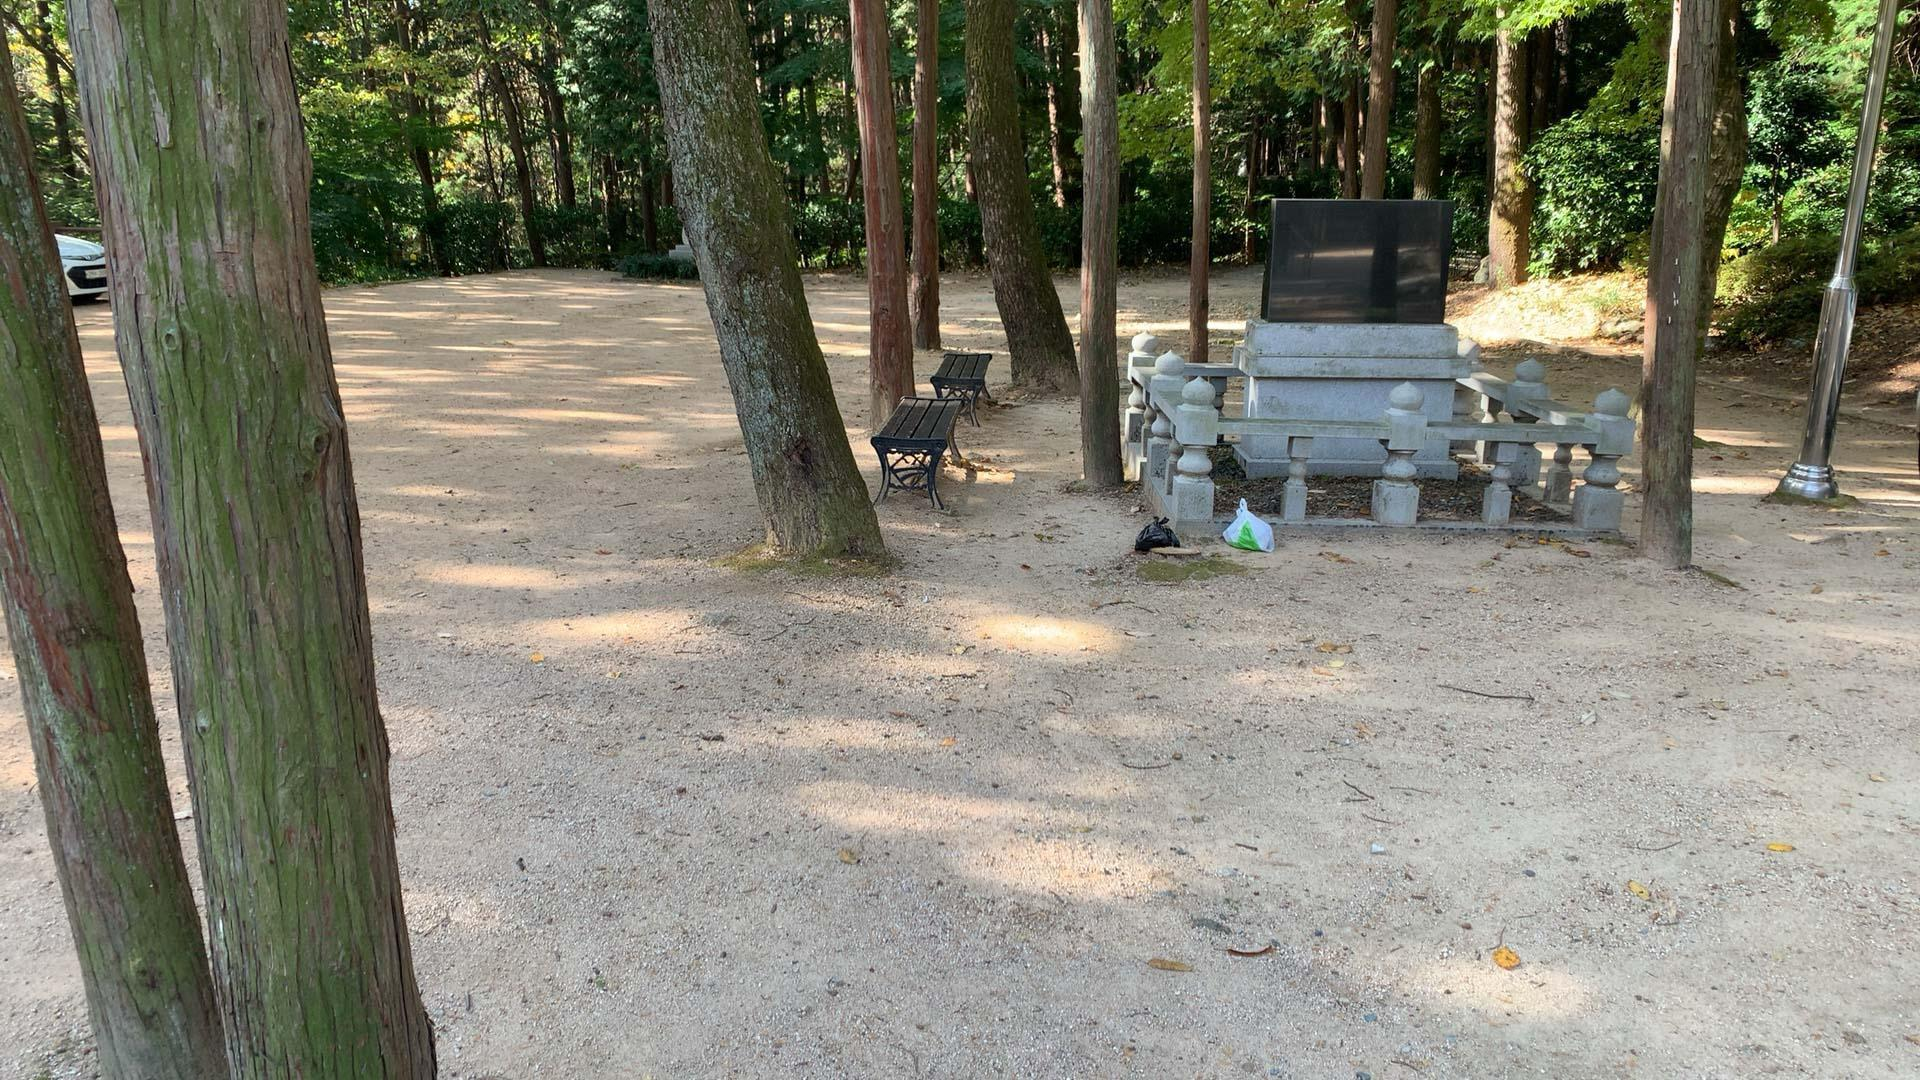black_bag: (1132, 512, 1183, 555)
white_bag: (1219, 494, 1278, 556)
